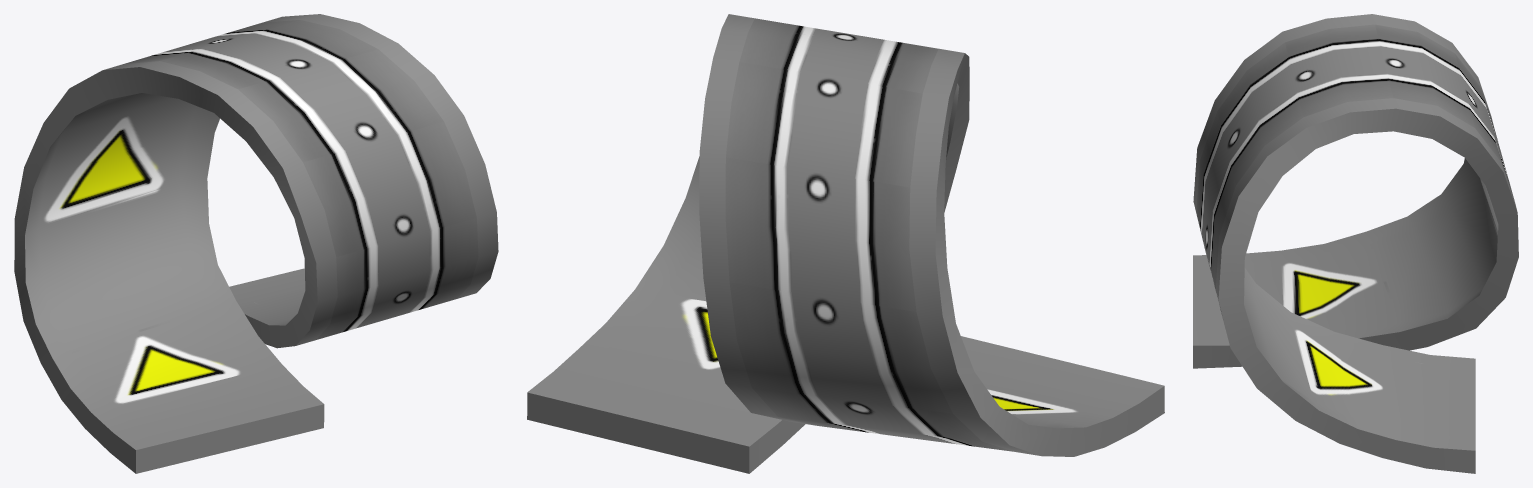
File: space_loop_small.gltf
3 renders of one model, left to right at view 1: azimuth 30°, elevation 25°; view 2: azimuth 150°, elevation 25°; view 3: azimuth 270°, elevation 25°, orthographic. The views are drawn at different scales.
Visible parts, largest first — view 1: space_loop_small_glb; view 2: space_loop_small_glb; view 3: space_loop_small_glb.
Part boxes in pixels (x1=…): space_loop_small_glb: x1=14, y1=14, x2=498, y2=473; space_loop_small_glb: x1=527, y1=14, x2=1164, y2=473; space_loop_small_glb: x1=1193, y1=14, x2=1518, y2=473.
Size of what is drawn, in the model's own units: 4.5 by 3.37 by 3.17.
1 material, 1 textured.
